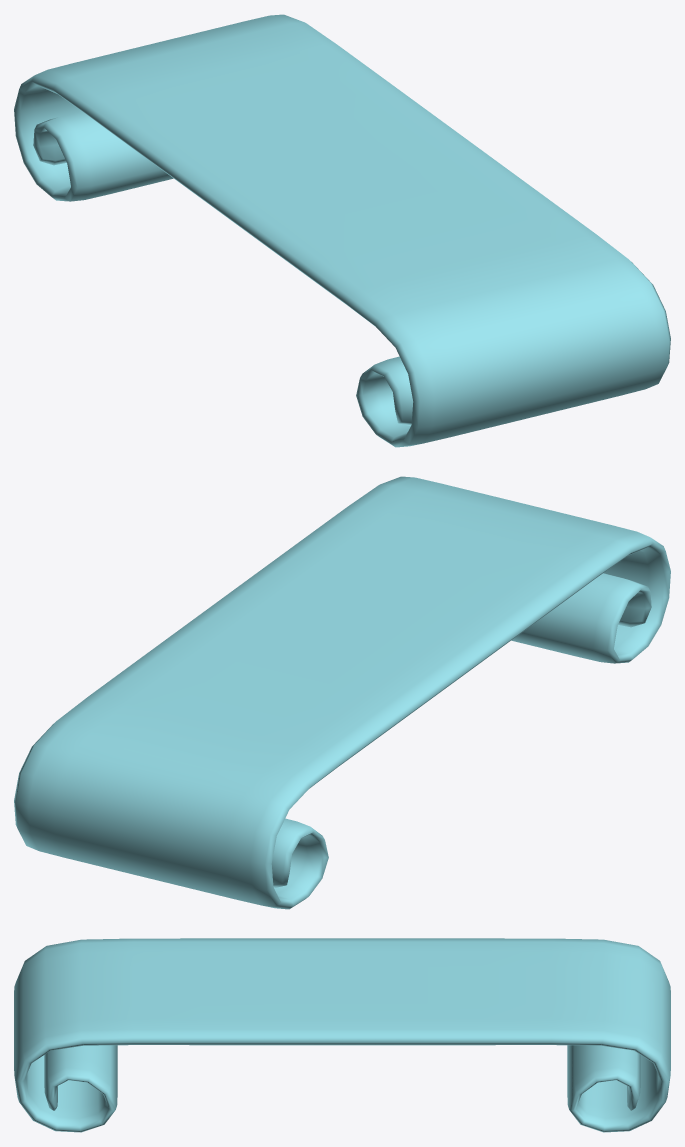
Rendered from BenchThing.fbx.
3 views of the same model, one above another, from view 1: azimuth 30°, elevation 25°; view 2: azimuth 150°, elevation 25°; view 3: azimuth 270°, elevation 25° (orthographic). The views are drawn at different scales.
Parts seen in each view (by area): view 1: Short table.001; view 2: Short table.001; view 3: Short table.001.
Part boxes in pixels (bbox=[...]): Short table.001: bbox=[14, 14, 670, 447]; Short table.001: bbox=[14, 476, 670, 909]; Short table.001: bbox=[14, 938, 670, 1132].
Size of the model in its own units: 526 by 241 by 1438.
